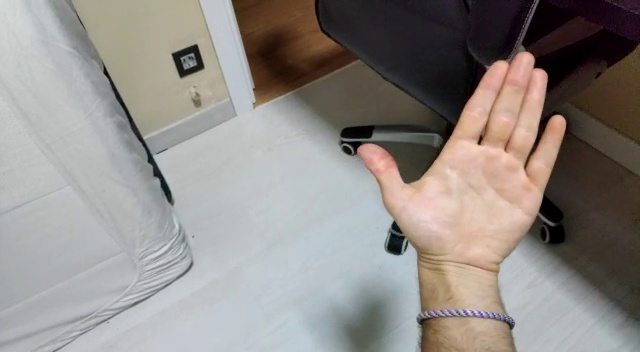Palm: (354, 48, 568, 288)
